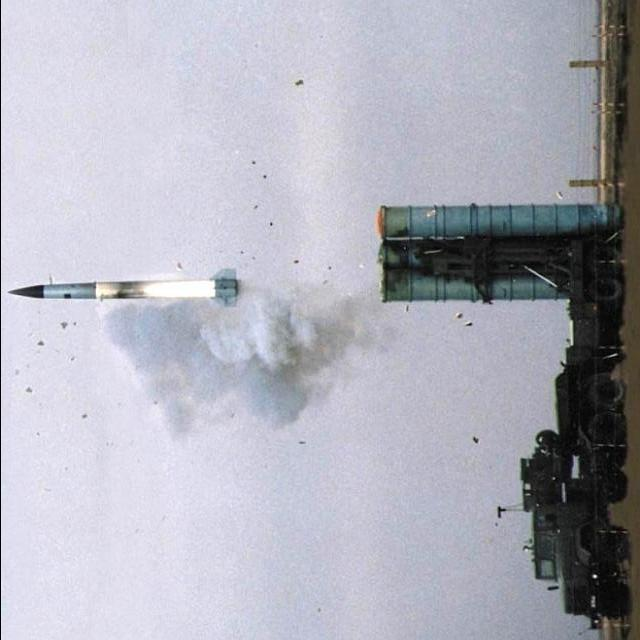missile: (8, 263, 245, 314)
